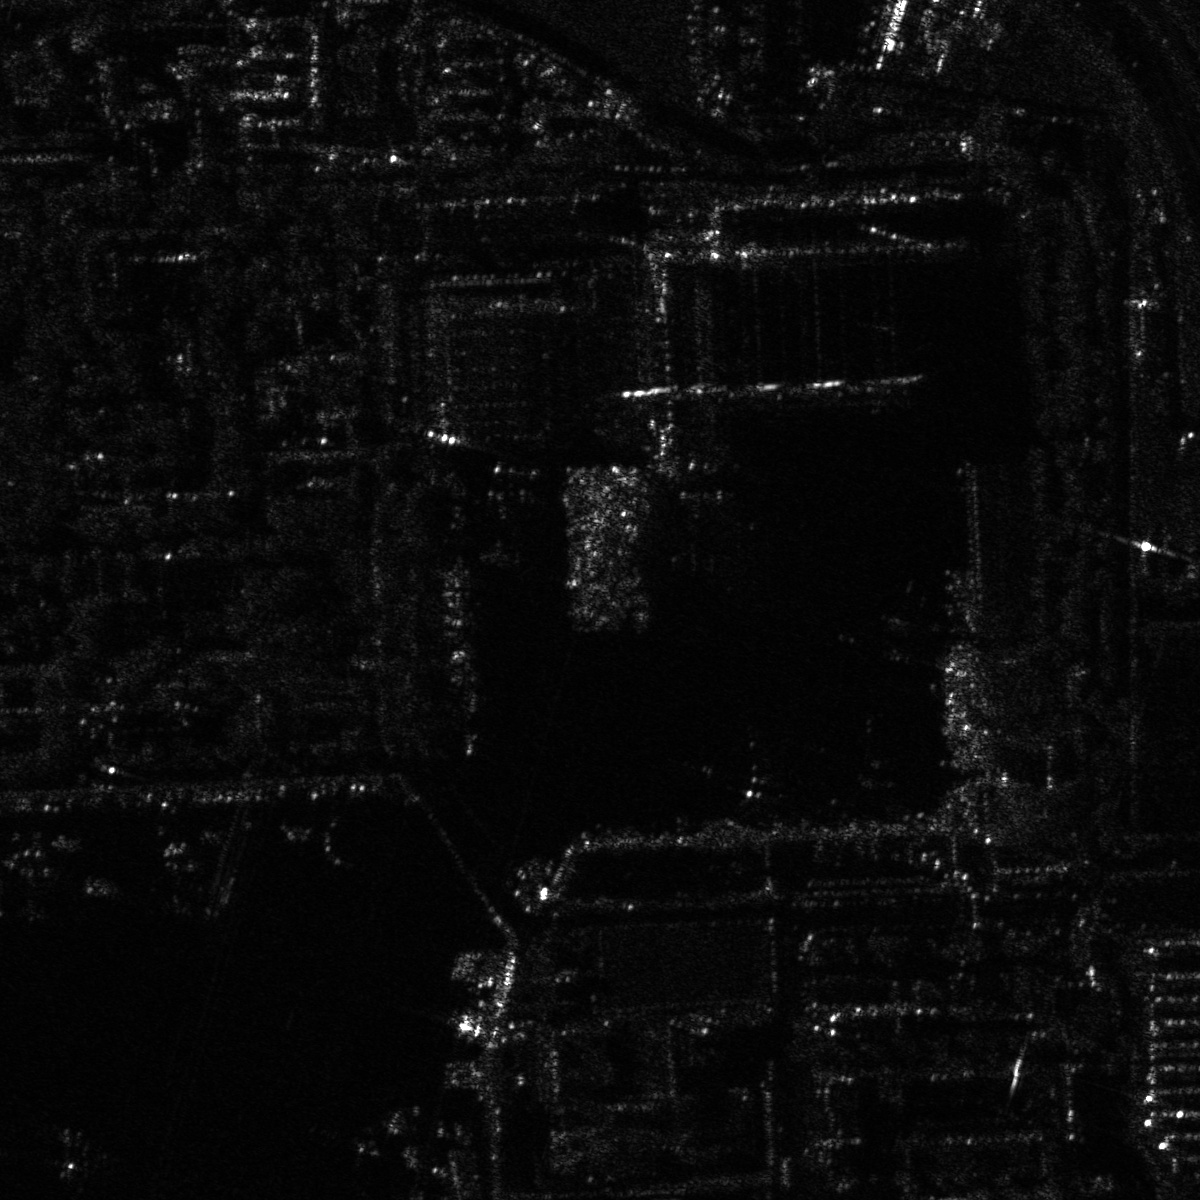ARJ21: (140, 840, 227, 924)
Boeing737: (663, 488, 759, 577), (474, 482, 547, 569)
Boeing787: (797, 709, 903, 815)
other: (680, 721, 803, 813), (31, 1115, 121, 1193), (314, 1113, 408, 1177)
